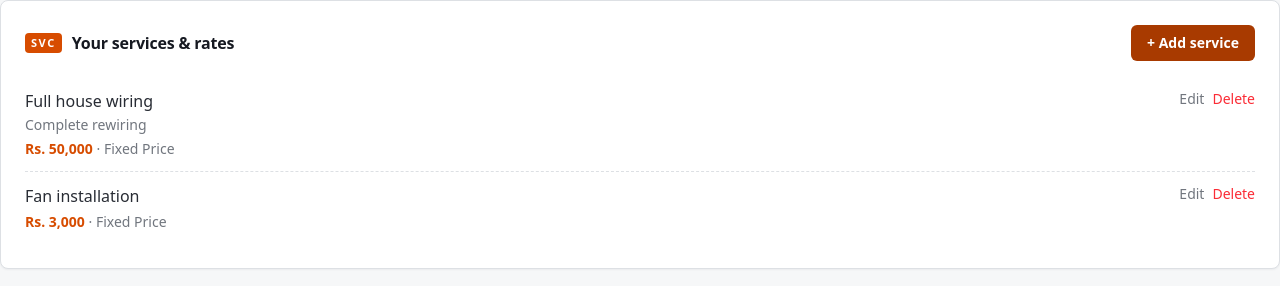
ServicesManager › DELETEs a service after confirming and drops it from the list
Click the button "Delete" in the row of "Full house wiring" at (1234, 99), box [1212,89,1255,109]
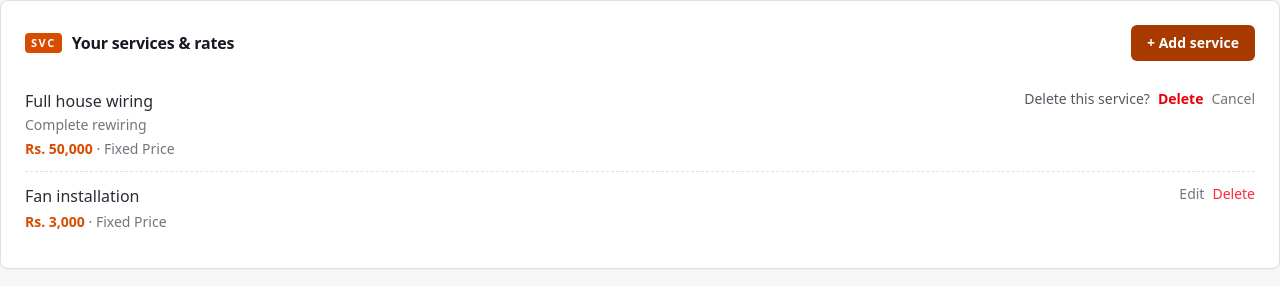
Click the button "Delete" next to "Delete this service?" at (1181, 99), box [1158,89,1203,109]
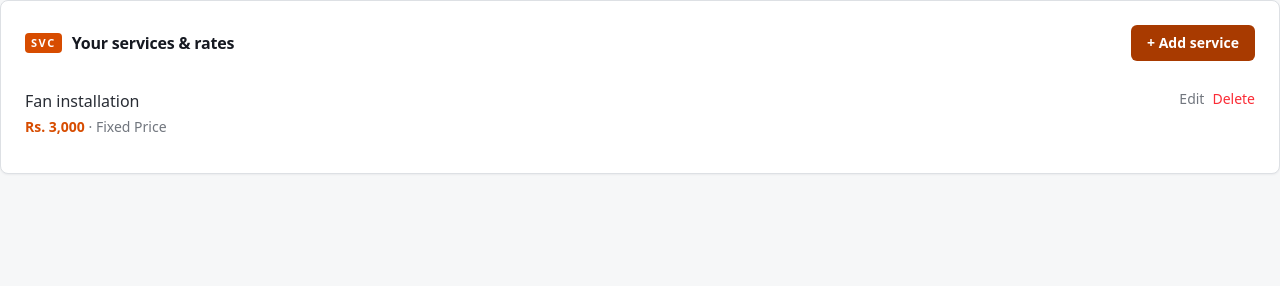
Result: the text "Full house wiring" is gone
